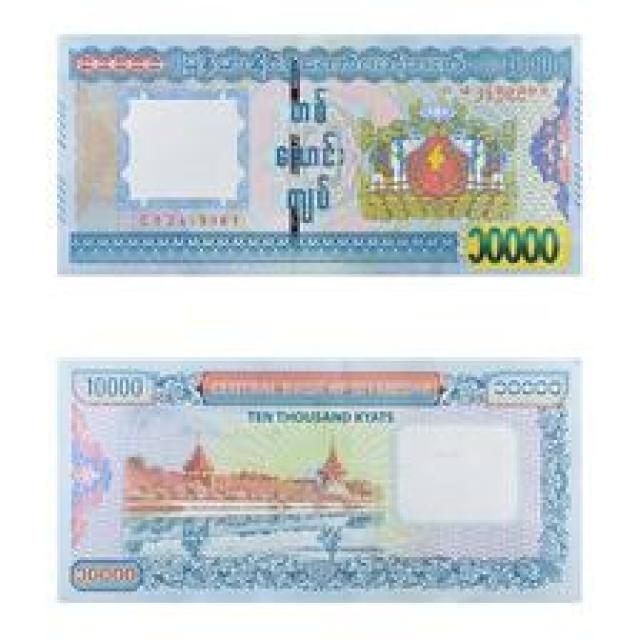banknote: (54, 354, 580, 603), (54, 32, 583, 274)
